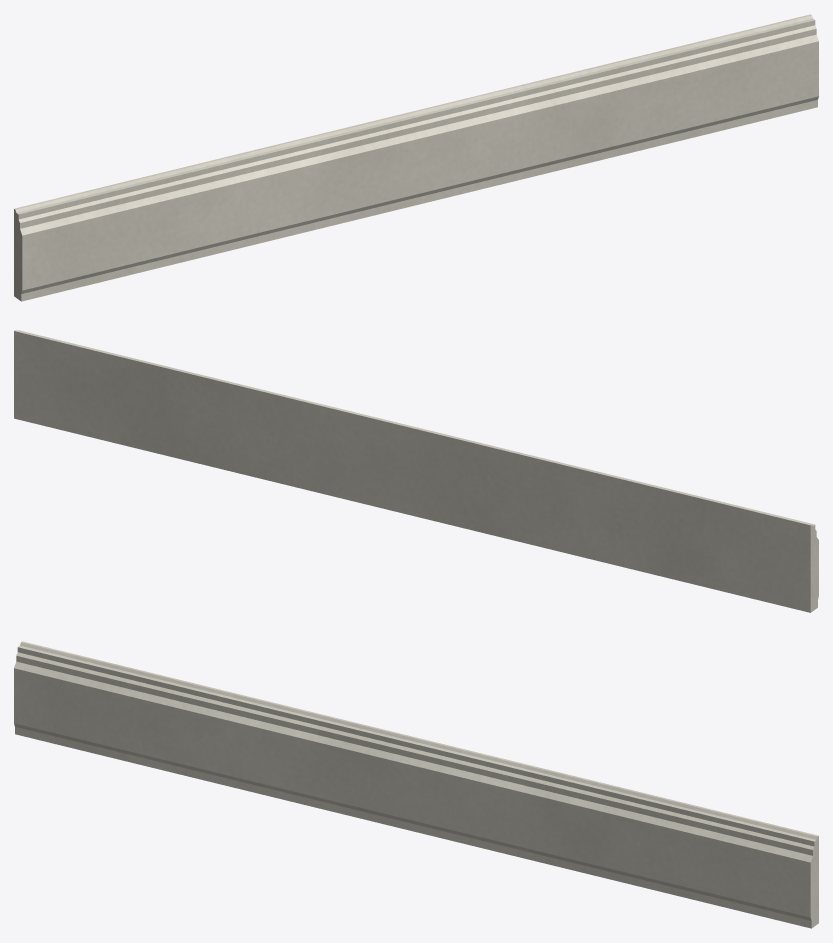
The model's file is PZ_InteriorTrim_V01_Baseboard_1m.glb.
3 views of the same model, one above another, from view 1: azimuth 30°, elevation 25°; view 2: azimuth 150°, elevation 25°; view 3: azimuth 330°, elevation 25° (orthographic).
Visible parts, largest first — view 1: V01_Baseboard_1m__Skirting_Profiling_SingleShell; view 2: V01_Baseboard_1m__Skirting_Profiling_SingleShell; view 3: V01_Baseboard_1m__Skirting_Profiling_SingleShell.
Part boxes in pixels (x1,y1,x2,y2): V01_Baseboard_1m__Skirting_Profiling_SingleShell: (14, 14, 818, 301); V01_Baseboard_1m__Skirting_Profiling_SingleShell: (14, 330, 818, 612); V01_Baseboard_1m__Skirting_Profiling_SingleShell: (14, 641, 818, 928).
Size of the model in its own units: 1 by 0.105 by 0.018.
1 material, 1 textured.
